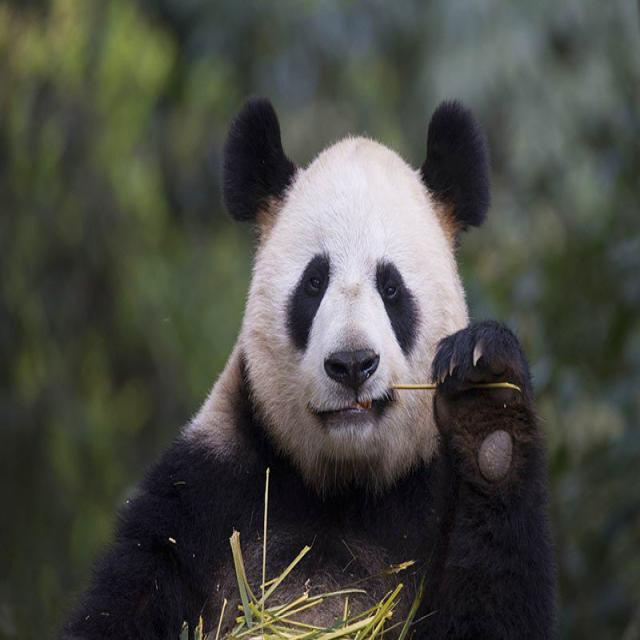panda: (61, 98, 555, 639)
